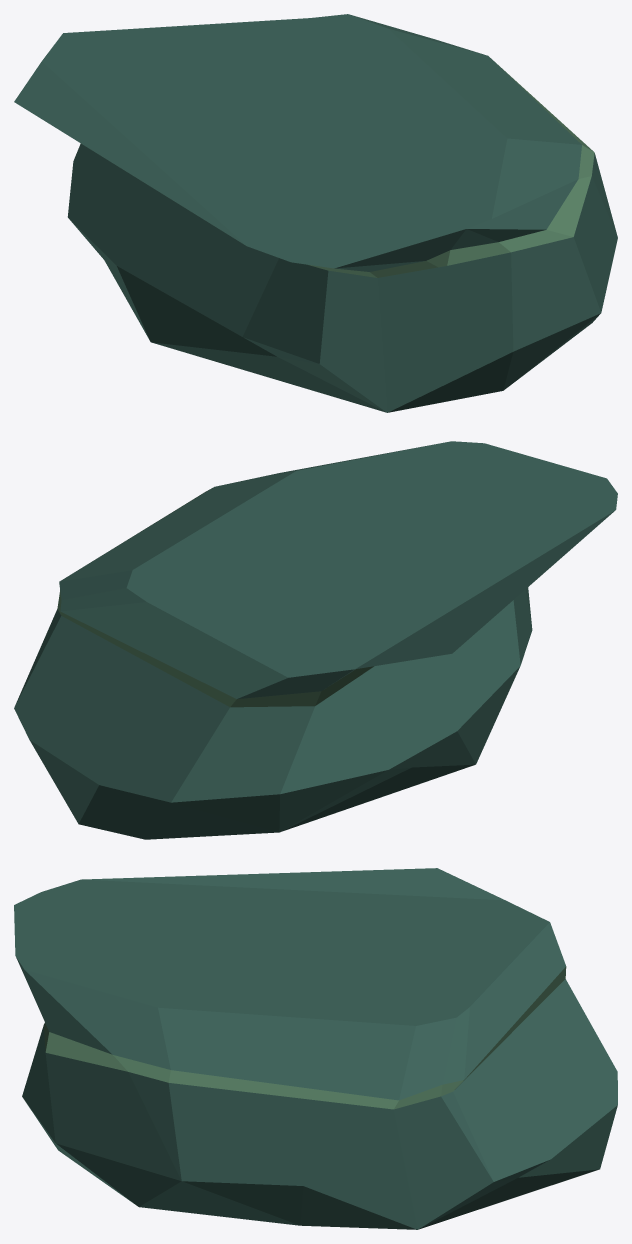
The model's file is Stone_15.fbx.
The picture shows the model from 3 angles, top to bottom: view 1: azimuth 30°, elevation 25°; view 2: azimuth 150°, elevation 25°; view 3: azimuth 270°, elevation 25°; orthographic projection. The views are drawn at different scales.
Parts seen in each view (by area): view 1: Stone 15; view 2: Stone 15; view 3: Stone 15.
Part boxes in pixels (x1,y1,x2,y2): Stone 15: (14,14,617,412); Stone 15: (14,441,617,839); Stone 15: (14,868,617,1229).
Size of the model in its own units: 5571 by 2194 by 7110.
